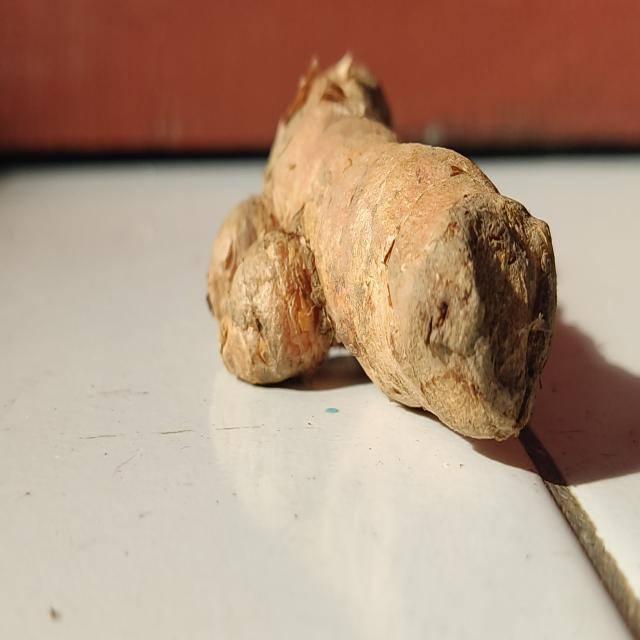ginger: (210, 33, 558, 429)
